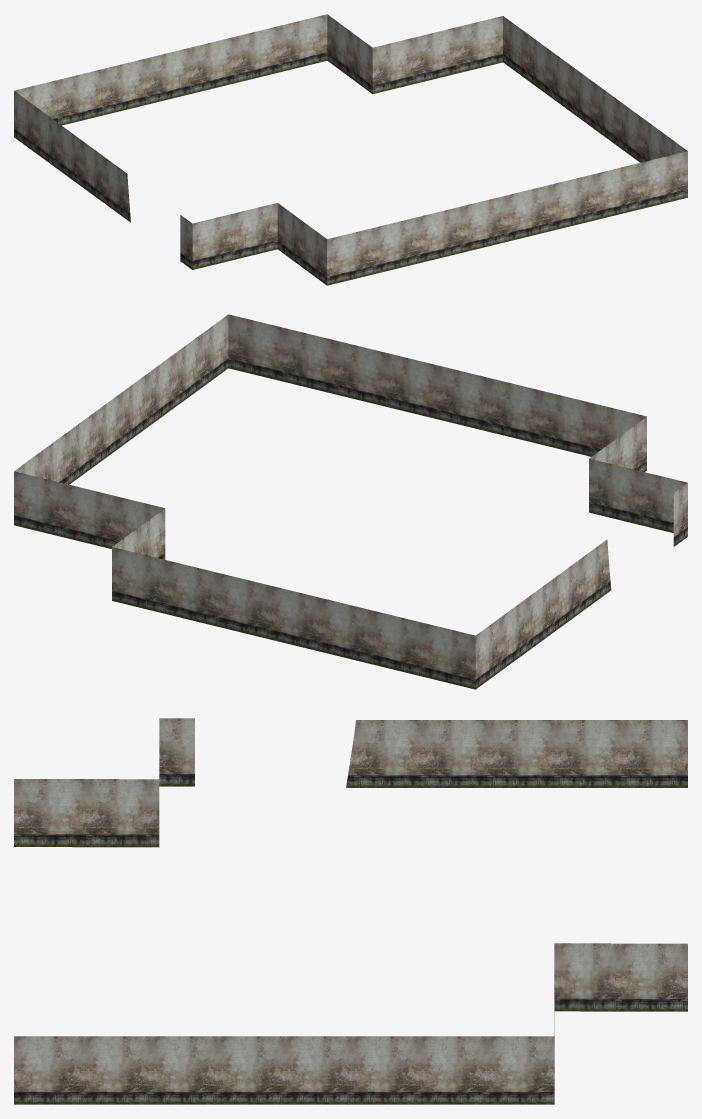
Rendered from ngle01.obj.
The picture shows the model from 3 angles, top to bottom: view 1: azimuth 30°, elevation 25°; view 2: azimuth 150°, elevation 25°; view 3: azimuth 270°, elevation 25°; orthographic projection. The views are drawn at different scales.
Visible parts, largest first — view 1: ngle01; view 2: ngle01; view 3: ngle01.
Boxes of the visible parts, box(x1,y1,x2,y2) form: ngle01: box(14, 14, 687, 285); ngle01: box(14, 314, 687, 689); ngle01: box(14, 718, 687, 1104).
Size of the model in its own units: 1591 by 159 by 1425.
